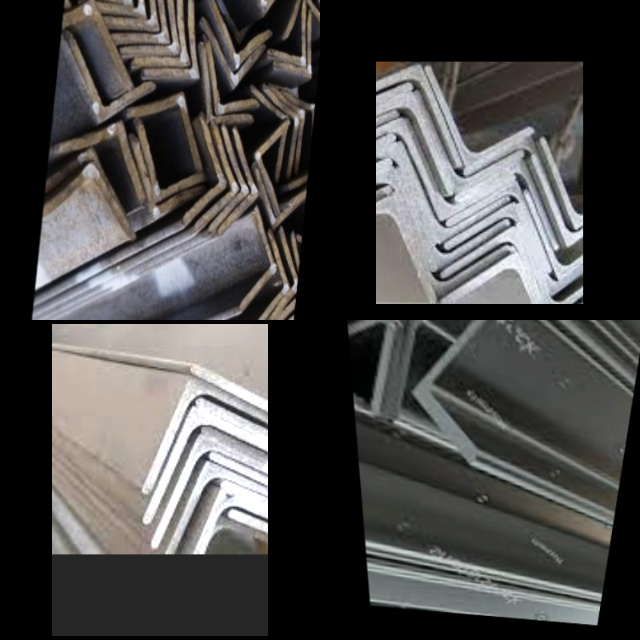Angle: (391, 320, 503, 442), (146, 415, 268, 520), (146, 387, 268, 489), (419, 320, 505, 459), (155, 442, 268, 544), (428, 71, 531, 160), (419, 96, 518, 181), (168, 470, 268, 552), (449, 188, 549, 267), (376, 69, 457, 163), (460, 164, 555, 244), (365, 320, 435, 427), (59, 117, 145, 200), (354, 396, 451, 469), (194, 324, 268, 413), (42, 165, 136, 234), (67, 44, 151, 120), (127, 85, 205, 165), (444, 233, 539, 298), (59, 0, 134, 81), (376, 100, 446, 186), (127, 141, 203, 216), (133, 126, 202, 199), (145, 0, 202, 88), (376, 203, 430, 294), (443, 259, 551, 304), (45, 146, 125, 205), (449, 210, 536, 264), (135, 0, 195, 78), (207, 1, 270, 71), (196, 52, 254, 128), (526, 197, 583, 273), (187, 121, 227, 223), (220, 132, 259, 234), (202, 45, 257, 117), (212, 128, 251, 229), (125, 0, 183, 67), (198, 498, 268, 553), (200, 25, 261, 87), (376, 122, 430, 189), (226, 430, 268, 516), (202, 129, 239, 226), (216, 427, 268, 494), (337, 320, 425, 359), (232, 453, 268, 547), (243, 211, 278, 306), (258, 92, 299, 173), (543, 143, 583, 223), (265, 88, 304, 169), (208, 415, 268, 465), (253, 118, 286, 208), (247, 93, 284, 173), (118, 0, 172, 54), (269, 234, 300, 320), (276, 6, 314, 76), (259, 236, 290, 320), (270, 0, 309, 66), (376, 151, 424, 201), (110, 0, 163, 39), (278, 237, 302, 320), (376, 63, 409, 118), (376, 72, 392, 174), (376, 64, 395, 146), (288, 0, 320, 47), (282, 248, 301, 320), (376, 96, 386, 201), (542, 279, 583, 304), (376, 127, 386, 229), (103, 0, 147, 22)
